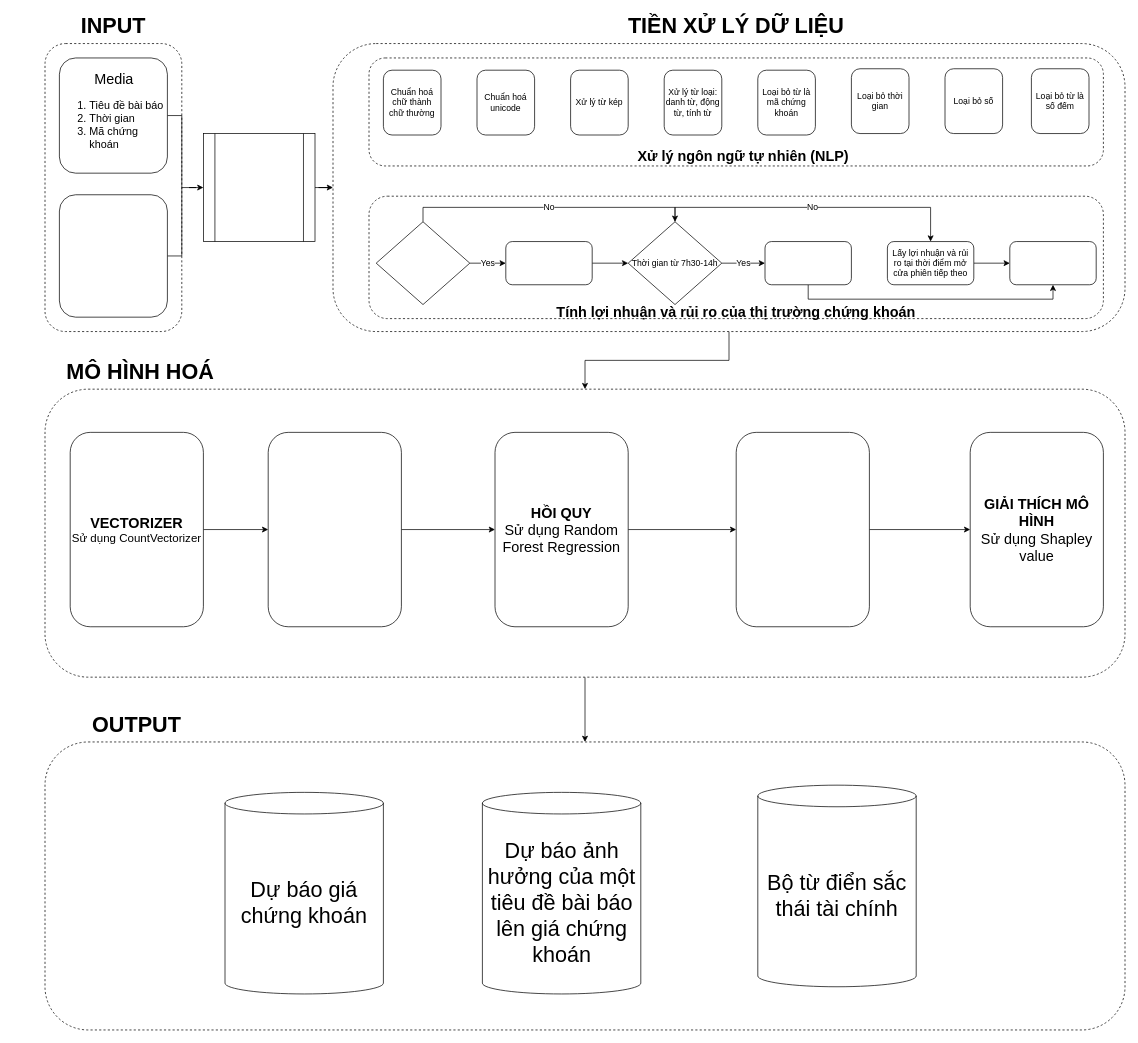
The diagram is 1138 pixels wide and 1043 high, and some of its shapes have lost their labels. Each missing label, with the centre of its shape:
"GỘP BẢNG" belongs at point 259,187.
"Lấy giá Thứ 6, giờ chuyển thành 19h" belongs at point 548,263.
"Lấy lợi nhuận và rủi ro trong phiên" belongs at point 807,263.
"Lợi nhuận và rủi ro cho biến mục tiêu" belongs at point 1052,263.
"Mã chứng khoán Thời gian Mã chứng khoán Giá mở cửa Giá đóng cửa" belongs at point 113,255.
"Thời gian rơi vào Thứ 7 hoặc CN" belongs at point 422,263.
"TẠO BIẾN GIẢ MÃ CHỨNG KHOÁN" belongs at point 334,529.
"ĐÁNH GIÁ MÔ HÌNH Sử dụng hệ số R 2" belongs at point 802,529.
